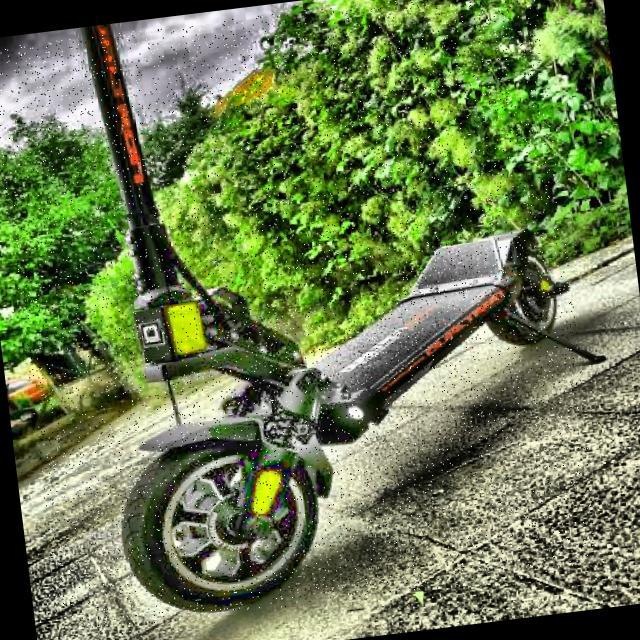bike: (121, 228, 575, 610), (310, 229, 568, 444)
